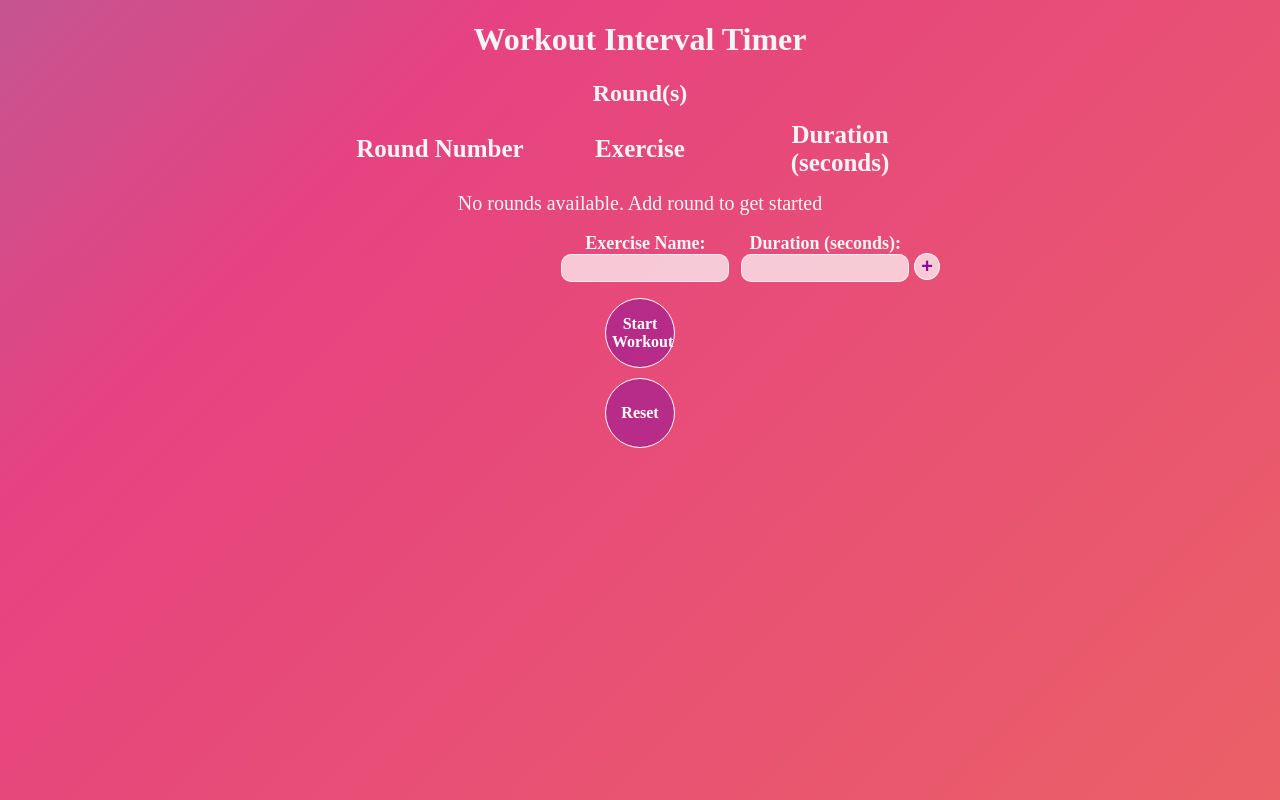
Scenario: App › Displays error if adding round without exercise name
The width and height of the screenshot is (1280, 800).
In the field with id "round_duration": [825, 268] box [741,254,909,282], type "30"
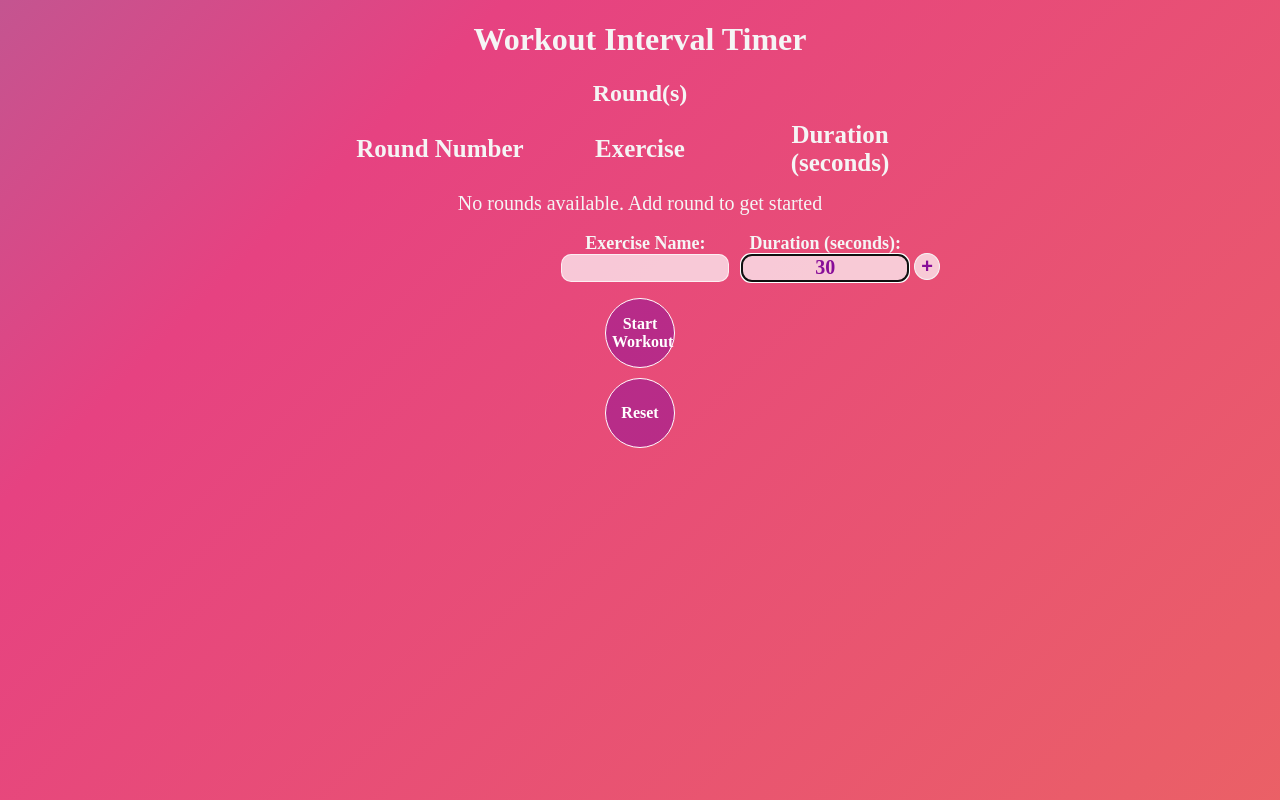
Click the button with id "add_round": [927, 267] box [914,253,940,280]
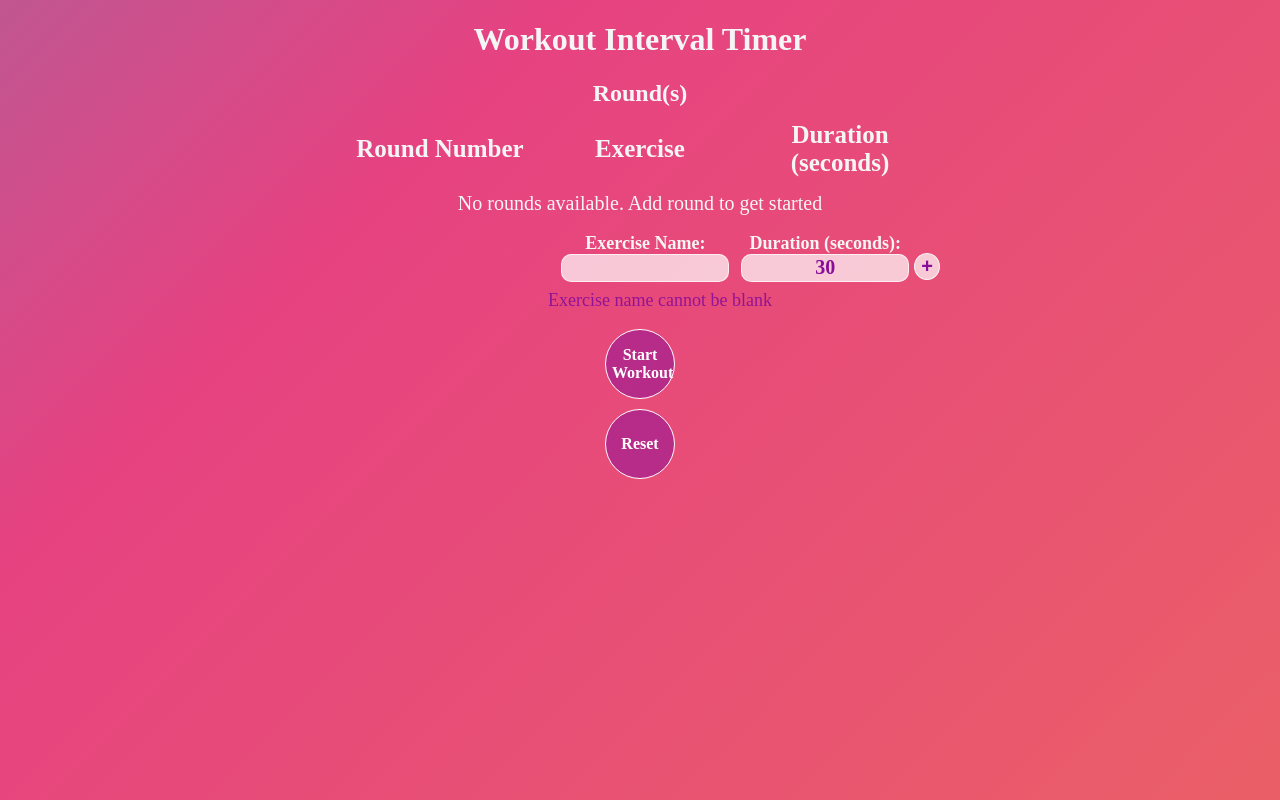
Expected: the text "Exercise name cannot be blank" is shown, [548,290,772,310]
